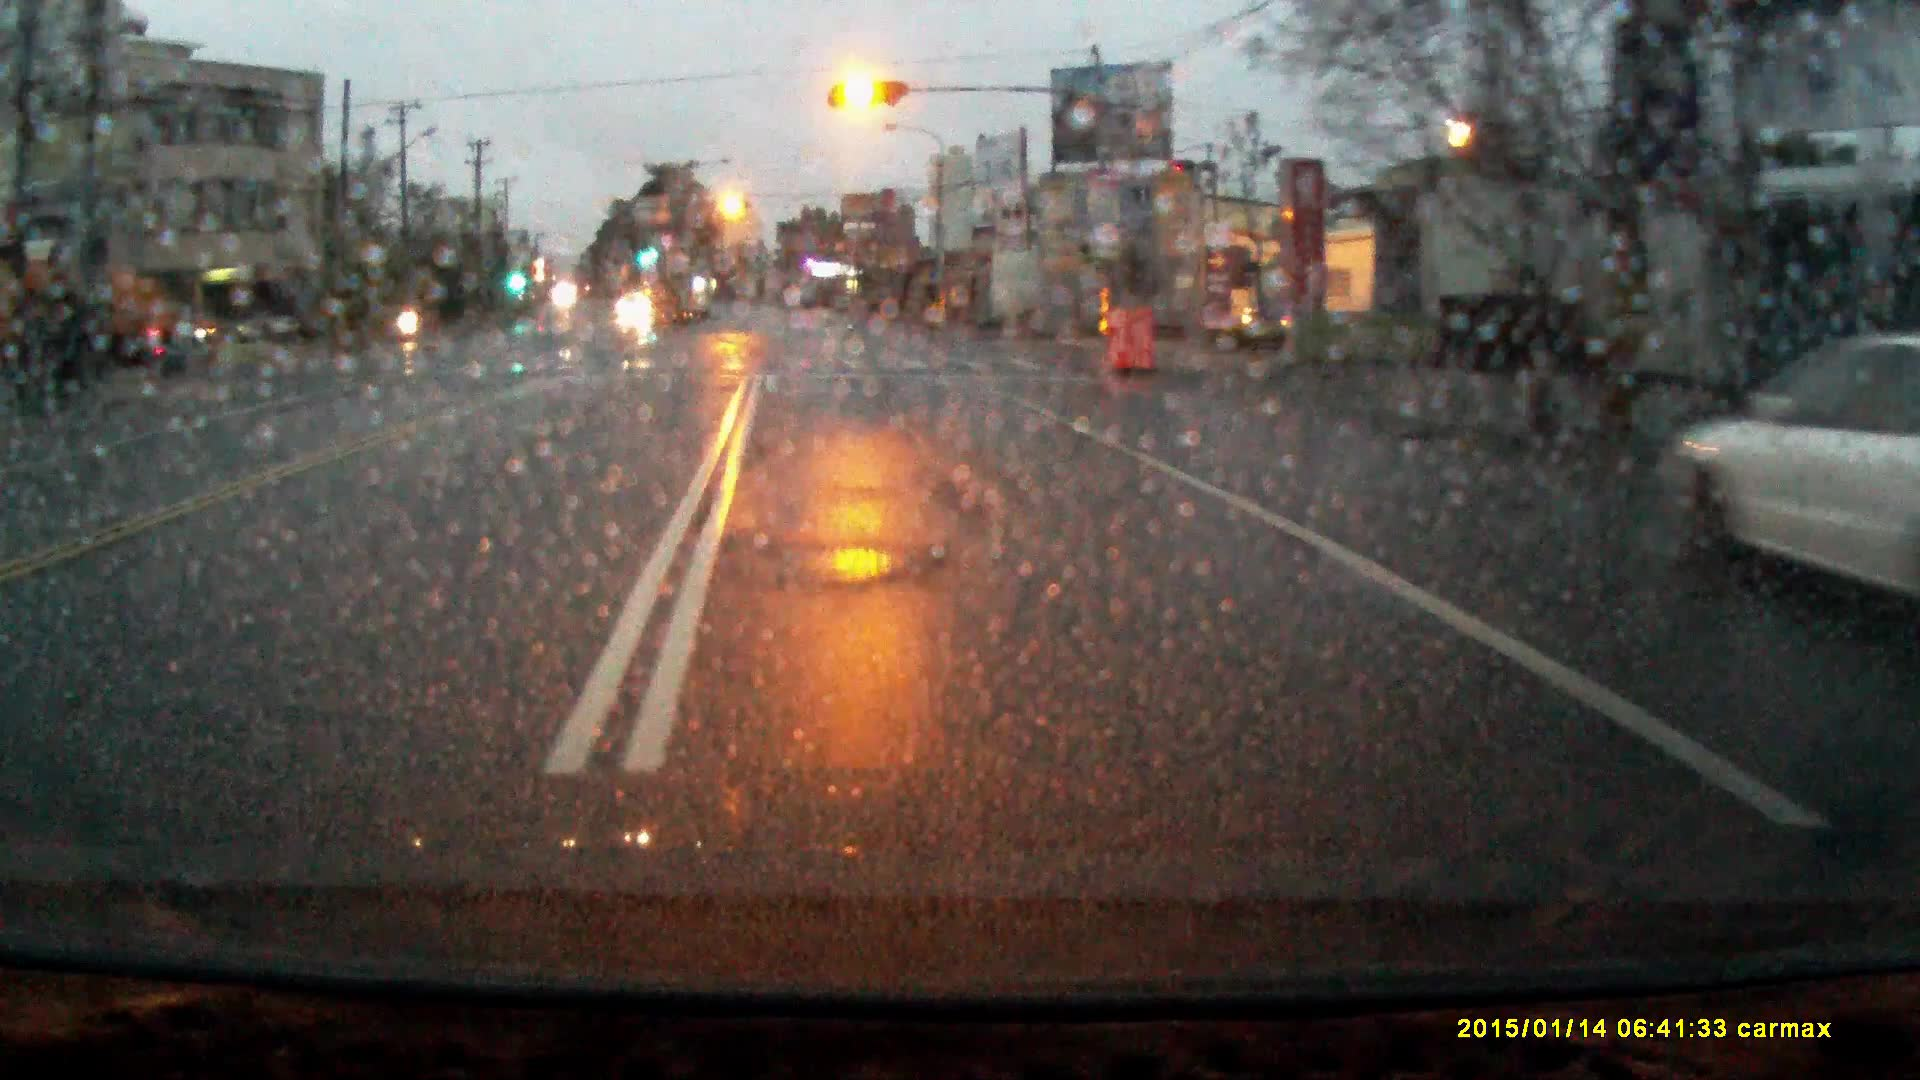rider: (395, 280, 422, 347)
vehicle: (1668, 344, 1920, 588), (1, 258, 174, 368), (616, 292, 653, 320)
